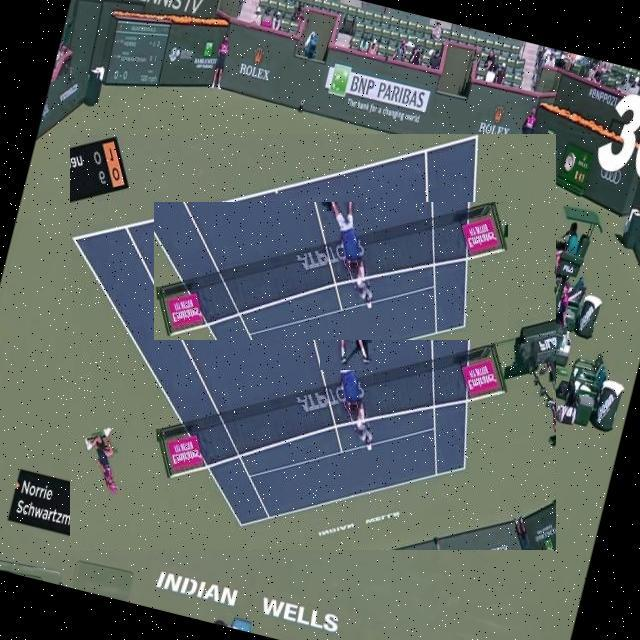court: (70, 134, 556, 550)
net: (154, 202, 508, 340)
player: (320, 267, 373, 370)
